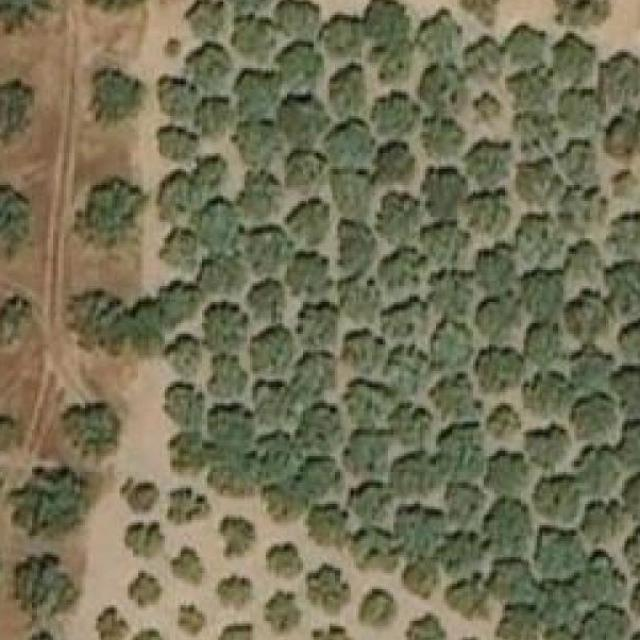Tree: (71, 178, 149, 252), (11, 467, 90, 539), (13, 555, 85, 619), (87, 65, 144, 126), (71, 291, 128, 350), (69, 401, 122, 459), (0, 182, 35, 261), (303, 562, 351, 616), (441, 424, 484, 481), (417, 62, 468, 110), (512, 215, 564, 262), (330, 164, 380, 212), (486, 496, 528, 553), (188, 39, 234, 90), (0, 78, 35, 144), (396, 509, 446, 555), (364, 0, 412, 47), (571, 387, 613, 440), (151, 172, 197, 220), (279, 100, 324, 148), (537, 584, 585, 629), (425, 169, 466, 220), (579, 440, 620, 491), (233, 119, 278, 165), (422, 10, 465, 58), (526, 366, 569, 414), (328, 61, 364, 117), (569, 289, 611, 337), (0, 0, 59, 34), (597, 55, 640, 101), (425, 224, 473, 265), (379, 194, 420, 242), (161, 276, 202, 324), (130, 302, 167, 355), (390, 350, 433, 395), (342, 329, 385, 374), (553, 36, 595, 82), (465, 39, 507, 85), (390, 454, 436, 496), (252, 326, 294, 372), (600, 113, 640, 161), (470, 140, 510, 188), (431, 268, 471, 316), (558, 89, 602, 132), (383, 249, 425, 294), (385, 297, 430, 339), (236, 20, 282, 61), (526, 321, 567, 367), (289, 252, 330, 298), (428, 110, 464, 162), (273, 0, 321, 39), (523, 273, 566, 316), (358, 587, 399, 632), (332, 123, 377, 164), (478, 247, 519, 292), (480, 348, 521, 393), (335, 225, 375, 271), (250, 225, 290, 271), (199, 201, 239, 247), (287, 45, 330, 87), (521, 162, 561, 207), (537, 531, 579, 573), (377, 137, 418, 180), (239, 71, 280, 114), (239, 172, 280, 215), (489, 456, 532, 497), (441, 376, 484, 417), (170, 544, 211, 587), (560, 190, 606, 228), (212, 406, 250, 452), (257, 435, 298, 477), (431, 323, 471, 366), (571, 344, 611, 387), (489, 560, 529, 603), (303, 406, 343, 449), (156, 77, 194, 122), (446, 481, 484, 526), (470, 188, 507, 234), (356, 527, 397, 568), (215, 571, 255, 613), (539, 477, 579, 518), (289, 201, 330, 241), (187, 0, 229, 39), (560, 142, 598, 185), (342, 279, 378, 324), (296, 350, 332, 395), (0, 294, 32, 344), (351, 384, 391, 424), (326, 15, 364, 57), (310, 504, 348, 546), (587, 557, 624, 600), (582, 605, 627, 640), (262, 541, 300, 582), (167, 488, 209, 525), (484, 300, 521, 342), (263, 486, 305, 523), (206, 305, 242, 348), (160, 121, 197, 162), (204, 254, 245, 291), (244, 281, 285, 318), (170, 435, 211, 472), (124, 523, 165, 560), (378, 95, 414, 137), (348, 433, 384, 475), (496, 605, 539, 640), (518, 116, 555, 156), (287, 151, 327, 188), (215, 459, 255, 496), (512, 72, 553, 108), (564, 238, 600, 279), (526, 432, 567, 468), (126, 568, 162, 608), (265, 591, 300, 632), (258, 380, 292, 422), (446, 536, 484, 573), (199, 97, 234, 137), (587, 501, 622, 541), (212, 355, 246, 396), (165, 337, 202, 374), (510, 26, 548, 62), (550, 0, 607, 23), (396, 408, 432, 444), (448, 582, 486, 616), (170, 230, 202, 270), (121, 478, 156, 514), (303, 297, 333, 339), (196, 156, 228, 194), (94, 607, 130, 640), (220, 518, 252, 555), (608, 217, 640, 254), (356, 483, 388, 520), (406, 562, 438, 598), (172, 387, 202, 424), (305, 460, 337, 494), (0, 413, 25, 456), (404, 615, 447, 640), (617, 259, 640, 305), (178, 603, 208, 638), (617, 369, 640, 414), (489, 410, 521, 440), (80, 0, 152, 13), (619, 319, 640, 360), (622, 422, 640, 465), (452, 0, 510, 13), (610, 171, 635, 201), (308, 624, 354, 640), (132, 621, 165, 640), (627, 528, 640, 576), (220, 623, 252, 640), (480, 94, 500, 116), (229, 0, 269, 11), (633, 475, 640, 517), (165, 40, 181, 56)
